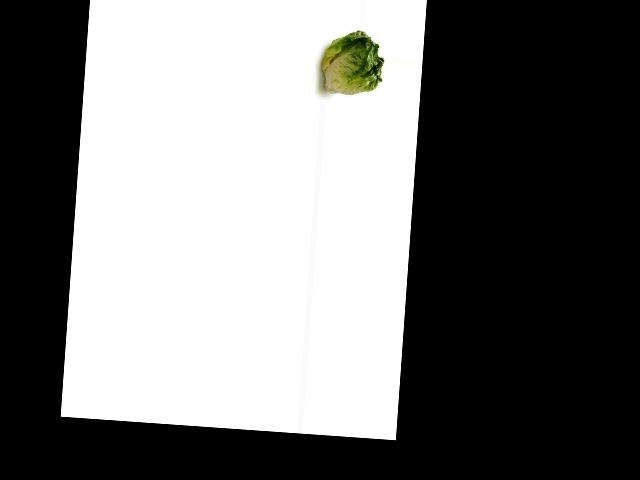lettuce: (320, 24, 388, 101)
